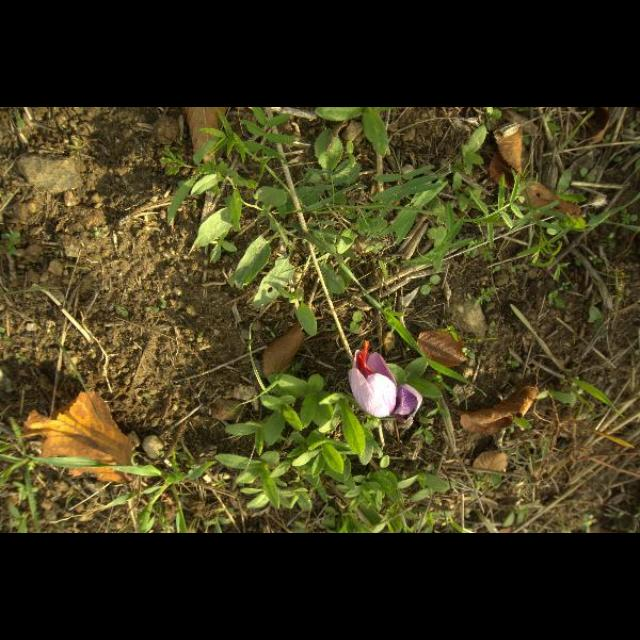flower: (348, 342, 422, 418)
